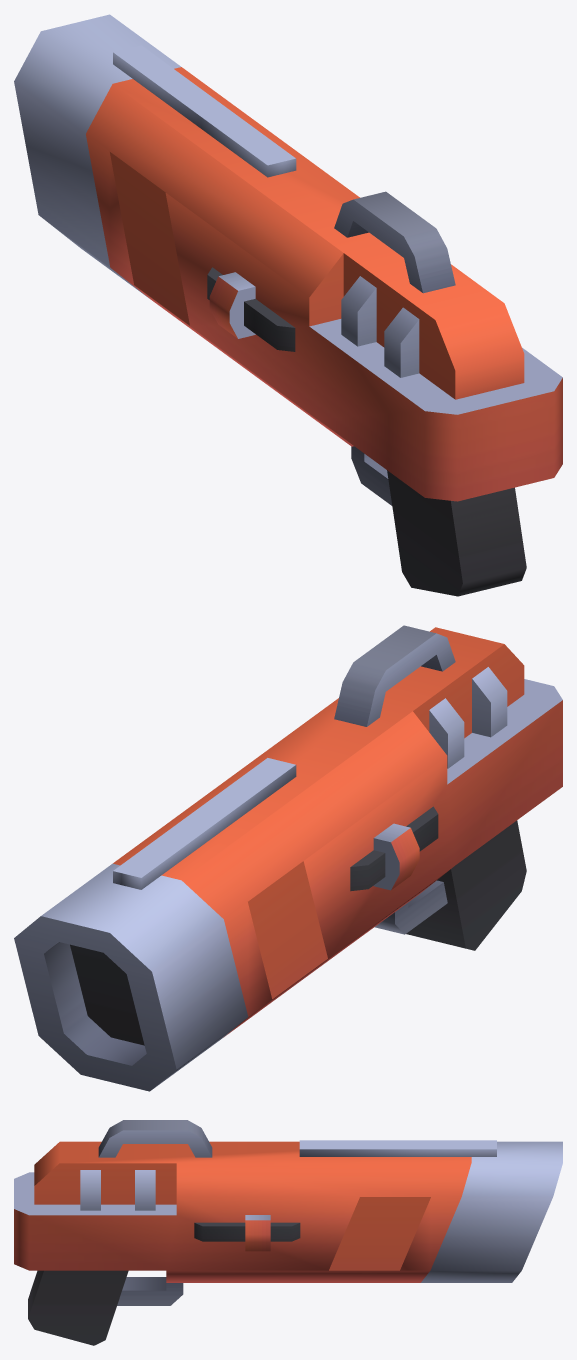
The model's file is blaster-h.glb.
3 views of the same model, one above another, from view 1: azimuth 30°, elevation 25°; view 2: azimuth 150°, elevation 25°; view 3: azimuth 270°, elevation 25° (orthographic). The views are drawn at different scales.
Visible parts, largest first — view 1: blaster-h; view 2: blaster-h; view 3: blaster-h.
Boxes of the visible parts, x1,y1,x2,y2 form: blaster-h: (14, 14, 562, 596); blaster-h: (14, 625, 562, 1091); blaster-h: (14, 1120, 562, 1345).
Size of the model in its own units: 0.165 by 0.2745 by 0.648.
Materials: 1 (1 with a texture image).
